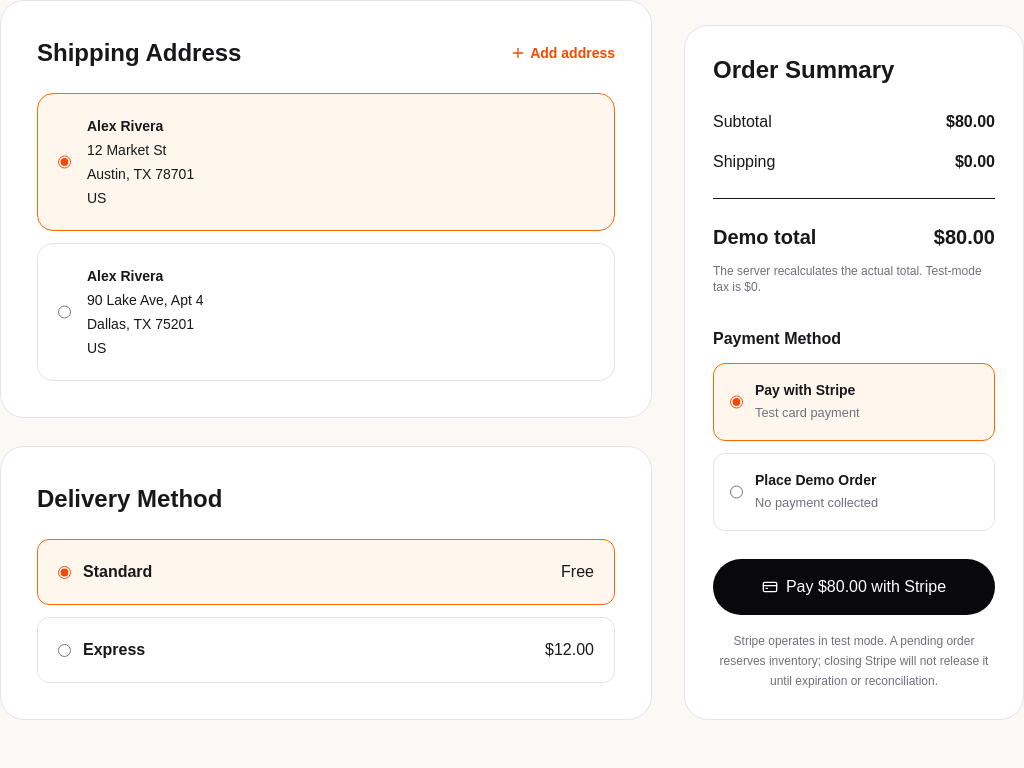
Test: CheckoutDelivery › adds express shipping and can switch to a demo order
Click the text "Express" at (114, 650), box [83,638,145,662]
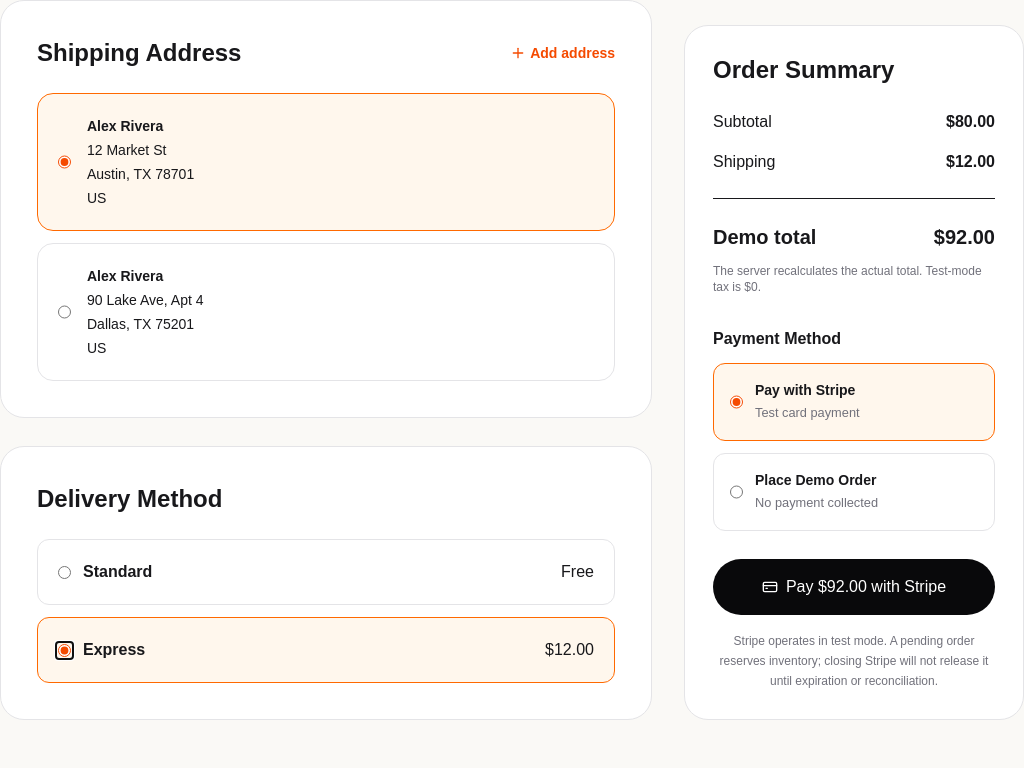
Expected: the button "Pay $92.00 with Stripe" is enabled, [713,559,995,615]
Click the text "Place Demo Order" at (817, 480), box [755,470,878,490]
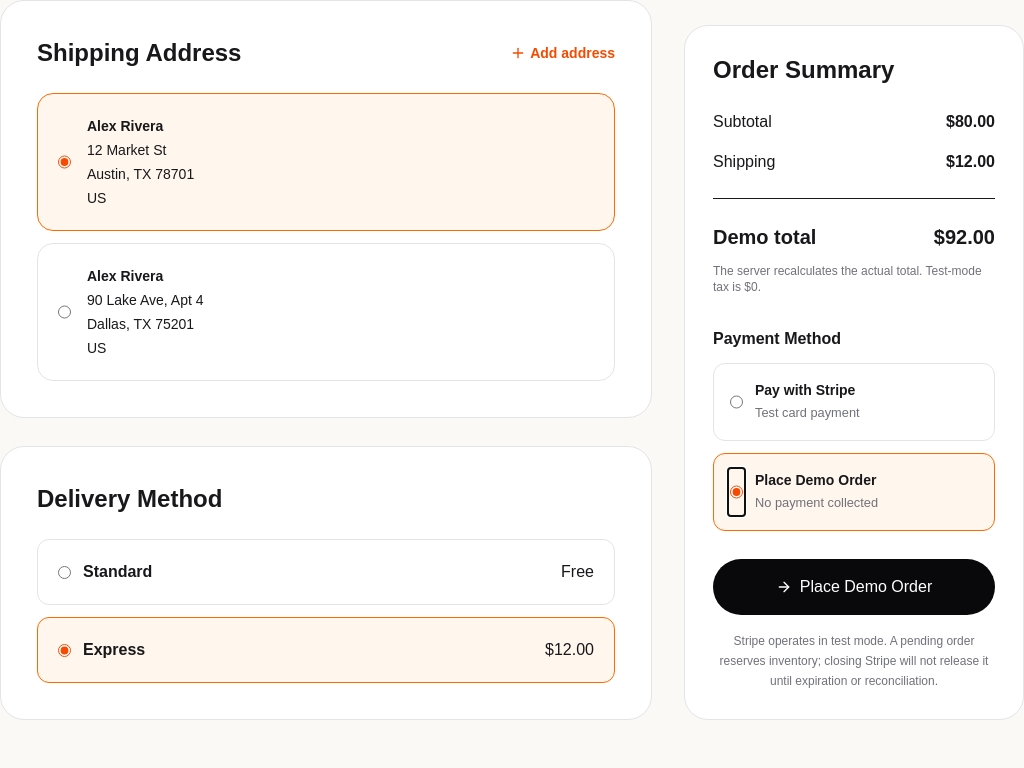
Now the button "Place Demo Order" is shown, box [713,559,995,615]
